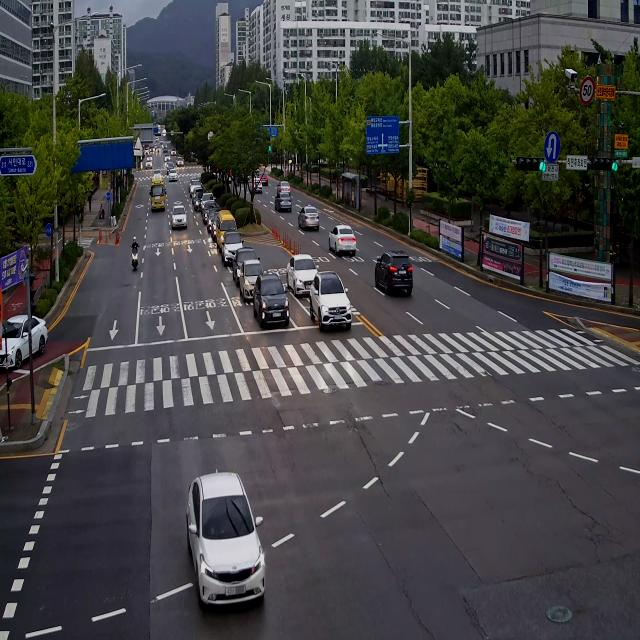Car: (166, 458, 275, 612), (300, 255, 359, 337), (246, 272, 292, 334), (376, 234, 416, 301)
Motorcycle: (127, 222, 144, 282), (220, 578, 249, 603)
